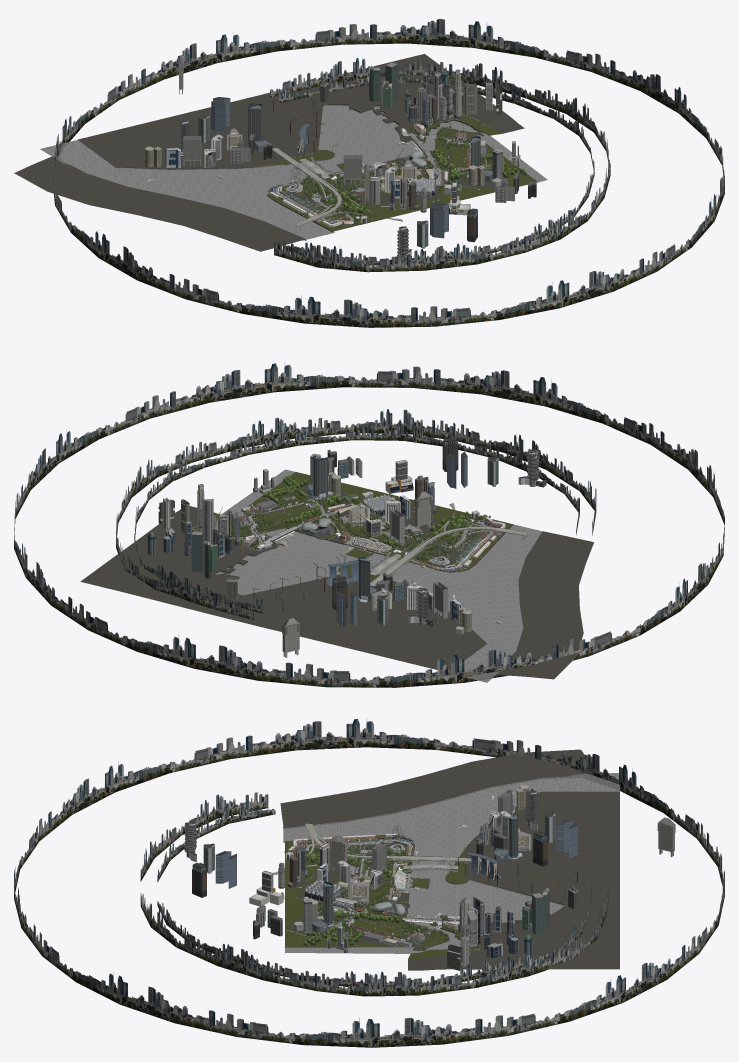
File: marina_bay_street_circuit.glb
The picture shows the model from 3 angles, top to bottom: view 1: azimuth 30°, elevation 25°; view 2: azimuth 150°, elevation 25°; view 3: azimuth 270°, elevation 25°; orthographic projection. The views are drawn at different scales.
Parts seen in each view (by area): view 1: Untitled_0; view 2: Untitled_0; view 3: Untitled_0.
Boxes of the visible parts, <box> form: Untitled_0: <box>14,19,724,327</box>; Untitled_0: <box>14,362,724,687</box>; Untitled_0: <box>14,718,724,1047</box>.
Bounding box in the file's own units: 4301 × 384 × 4301.
Materials: 100 (99 with a texture image).
